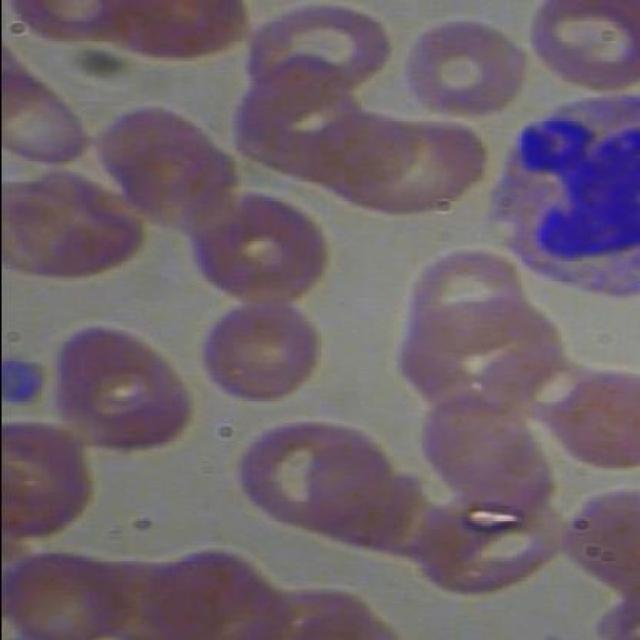Platelets: (1, 355, 54, 408)
RBC: (44, 317, 204, 458), (223, 413, 383, 536), (315, 111, 488, 222), (187, 192, 331, 310), (230, 2, 395, 103), (0, 172, 145, 286), (395, 244, 530, 364), (185, 297, 322, 414), (392, 13, 533, 124), (2, 548, 120, 638), (524, 1, 638, 93), (87, 1, 250, 64), (546, 369, 639, 477)
WBC: (482, 85, 638, 307)
